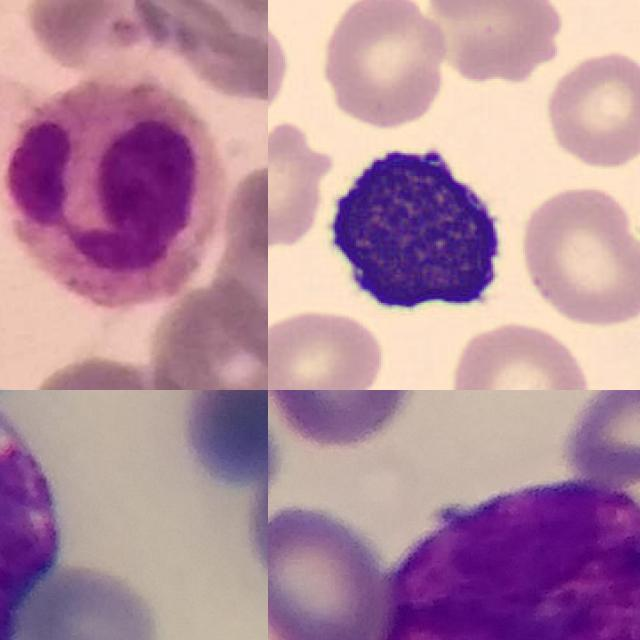Basophil: (379, 476, 640, 640), (0, 390, 57, 640)
Lymphocyte: (315, 130, 516, 324)
Neutrophil: (2, 76, 225, 310)
RBC: (516, 181, 640, 329), (315, 0, 452, 130), (541, 47, 640, 170), (443, 317, 596, 390), (268, 303, 386, 390), (268, 114, 338, 253)
